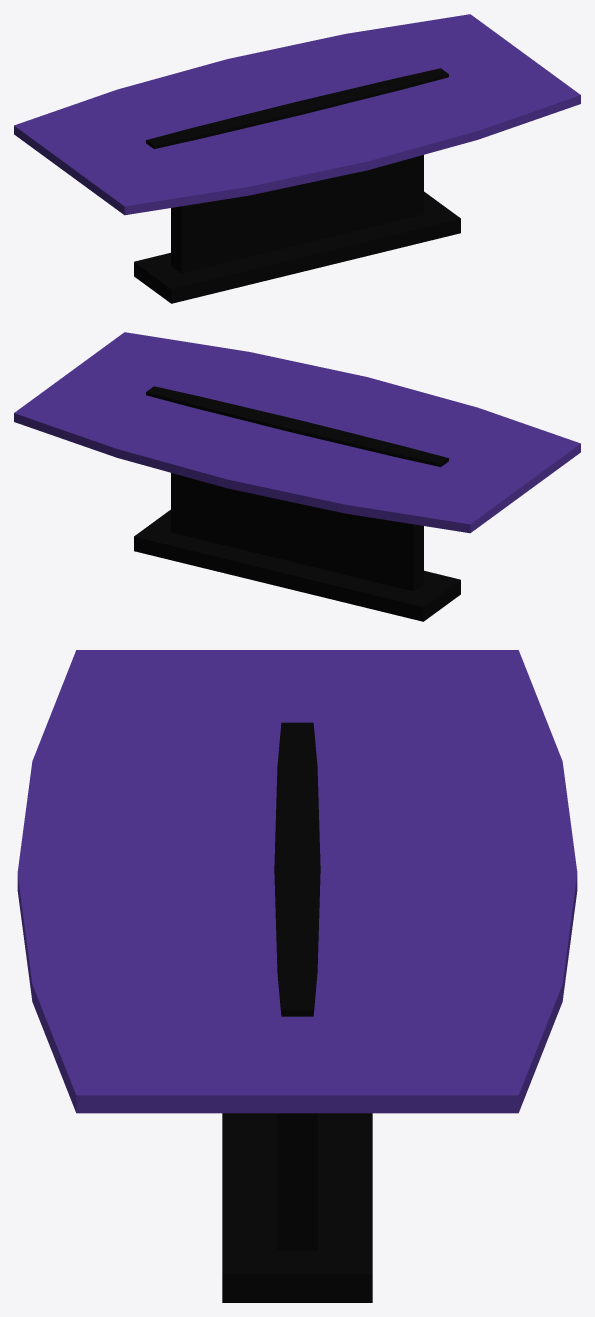
Rendered from table_meeting.fbx.
3 renders of one model, top to bottom at view 1: azimuth 30°, elevation 25°; view 2: azimuth 150°, elevation 25°; view 3: azimuth 270°, elevation 25°, orthographic. The views are drawn at different scales.
Visible parts, largest first — view 1: table_meeting; view 2: table_meeting; view 3: table_meeting.
Part boxes in pixels (x1,y1,x2,y2): table_meeting: [14, 14, 580, 303]; table_meeting: [14, 332, 580, 621]; table_meeting: [17, 650, 577, 1302].
Size of the model in its own units: 215 by 66.46 by 114.
